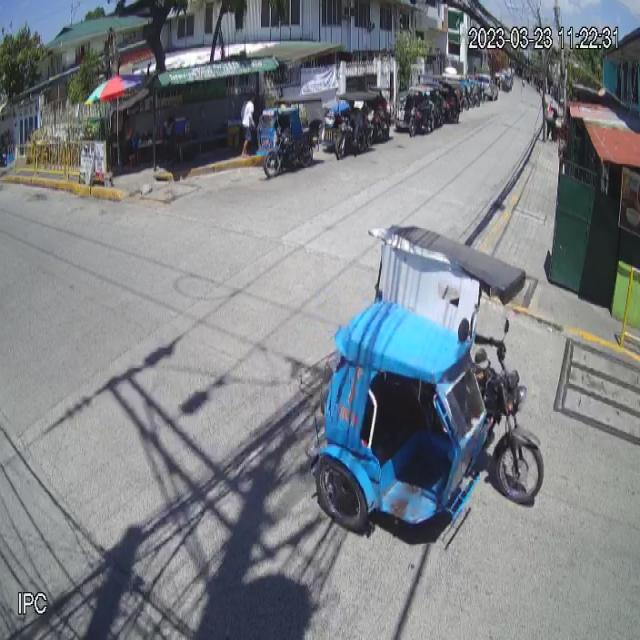Tricycle: (299, 223, 545, 534)
